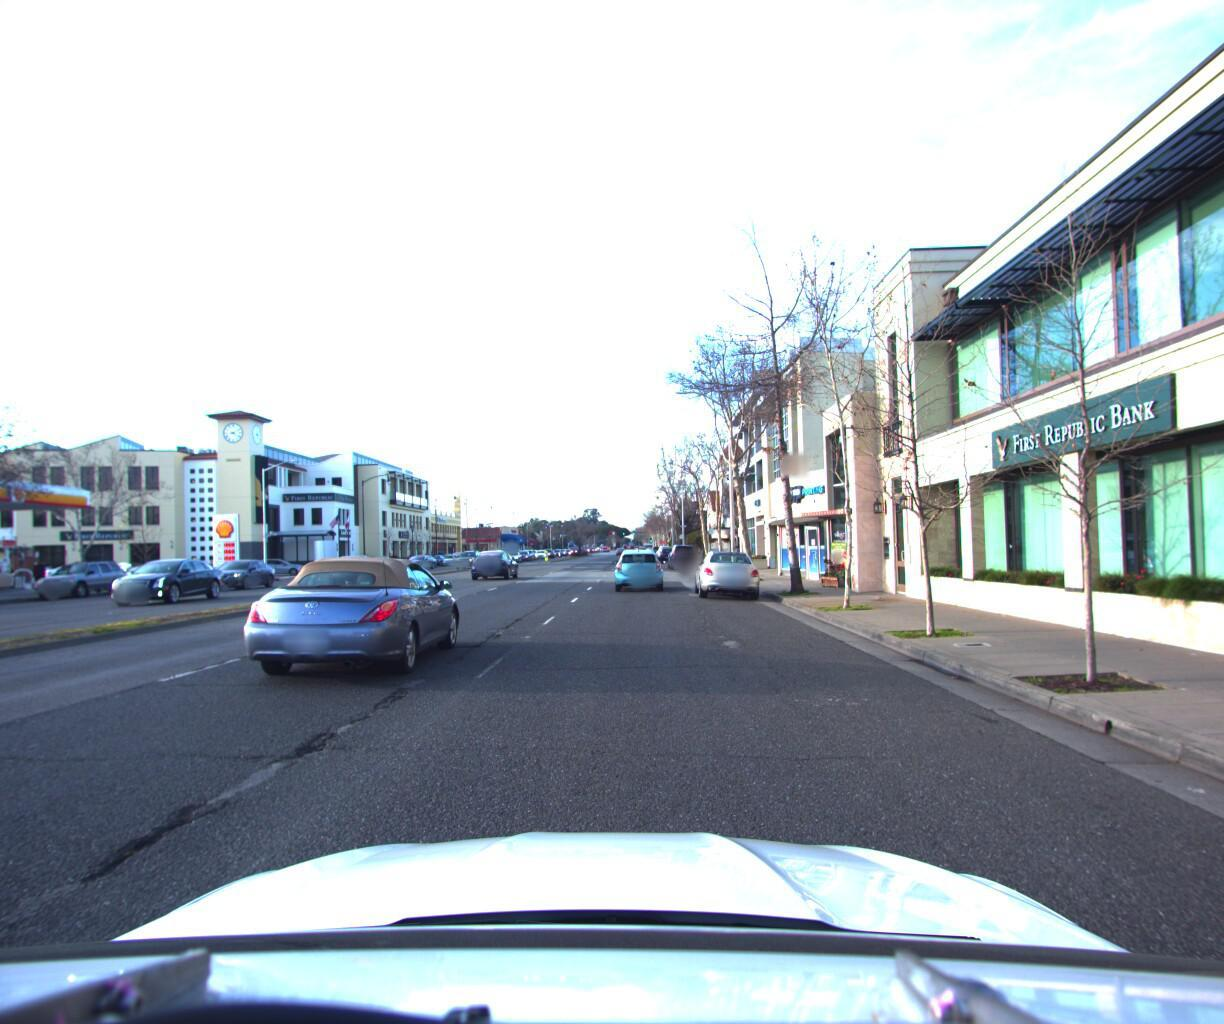car: (240, 551, 471, 695), (103, 555, 230, 609), (30, 558, 132, 602), (694, 545, 761, 602), (203, 554, 280, 589), (612, 544, 662, 591), (46, 560, 120, 584), (467, 545, 517, 578), (245, 554, 309, 576), (666, 540, 699, 568), (401, 550, 436, 568), (452, 547, 482, 566)
